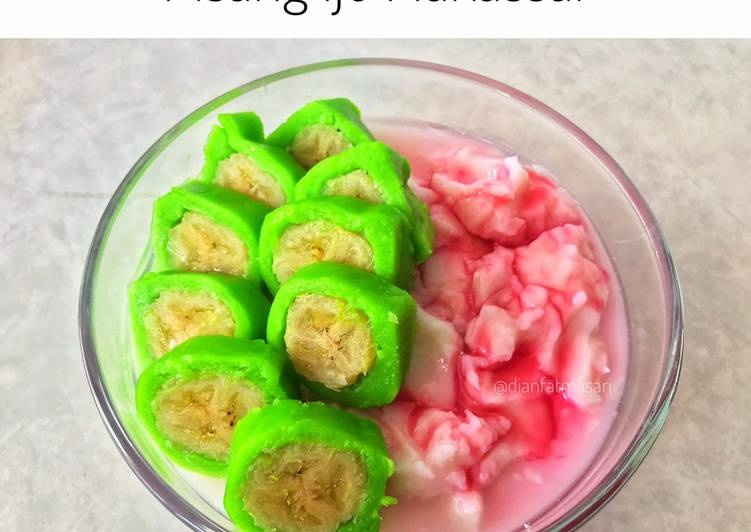pisang_ijo: (262, 266, 448, 405)
